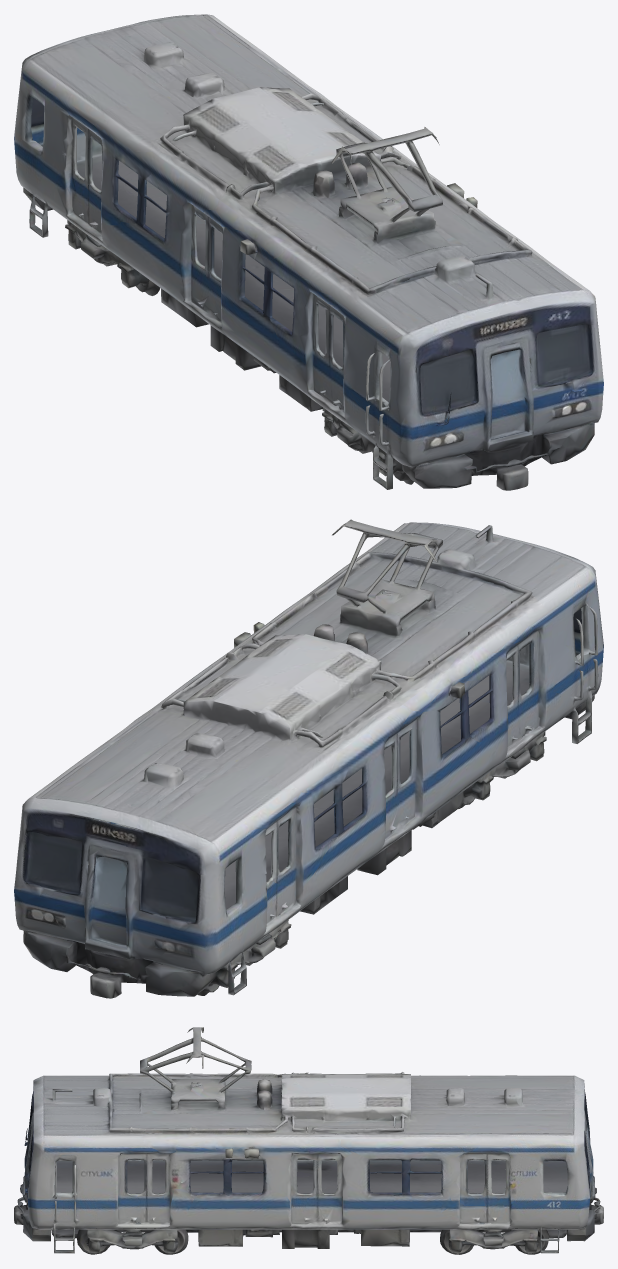
Rendered from trem.glb.
3 renders of one model, top to bottom at view 1: azimuth 30°, elevation 25°; view 2: azimuth 150°, elevation 25°; view 3: azimuth 270°, elevation 25°, orthographic. The views are drawn at different scales.
Visible parts, largest first — view 1: tripo_node_22f7ac2d-1a40-4c96-822b-bae13e5001f2; view 2: tripo_node_22f7ac2d-1a40-4c96-822b-bae13e5001f2; view 3: tripo_node_22f7ac2d-1a40-4c96-822b-bae13e5001f2.
Part boxes in pixels (left/top/right/bottom): tripo_node_22f7ac2d-1a40-4c96-822b-bae13e5001f2: left=14, top=14, right=603, bottom=490; tripo_node_22f7ac2d-1a40-4c96-822b-bae13e5001f2: left=14, top=519, right=603, bottom=998; tripo_node_22f7ac2d-1a40-4c96-822b-bae13e5001f2: left=14, top=1027, right=603, bottom=1254.
Bounding box in the file's own units: 4.57 × 5.46 × 15.
Materials: 1 (1 with a texture image).
